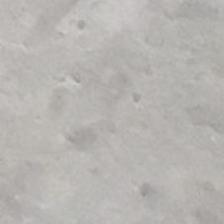Non_Crack: (30, 42, 190, 176)
